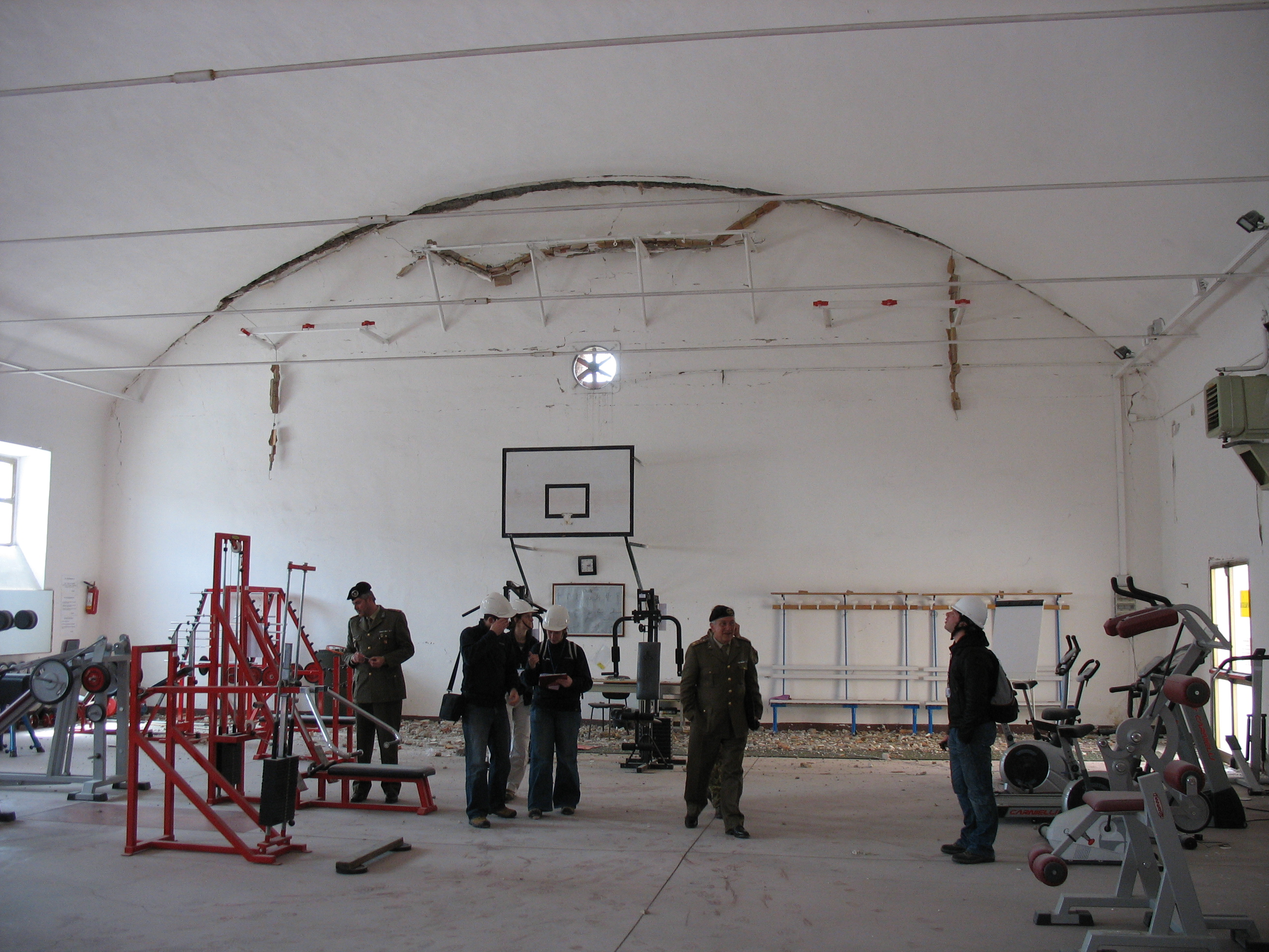Crack: (296, 308, 641, 359), (995, 469, 1109, 587), (315, 395, 946, 416), (161, 371, 259, 489), (1158, 398, 1201, 528), (101, 405, 137, 519), (1127, 379, 1153, 526), (621, 372, 799, 393), (242, 290, 436, 309), (623, 330, 881, 344), (544, 257, 634, 293), (645, 255, 746, 287), (460, 366, 565, 394), (962, 388, 1115, 404), (123, 408, 261, 419), (416, 633, 454, 663), (966, 312, 1058, 323), (605, 209, 626, 236)
Debris: (752, 728, 939, 785), (437, 253, 530, 287), (401, 722, 464, 764), (263, 365, 285, 483), (645, 239, 744, 257), (718, 202, 783, 229), (547, 242, 632, 257), (393, 255, 425, 282)
Other damage/mechanism: (109, 171, 1123, 405)
